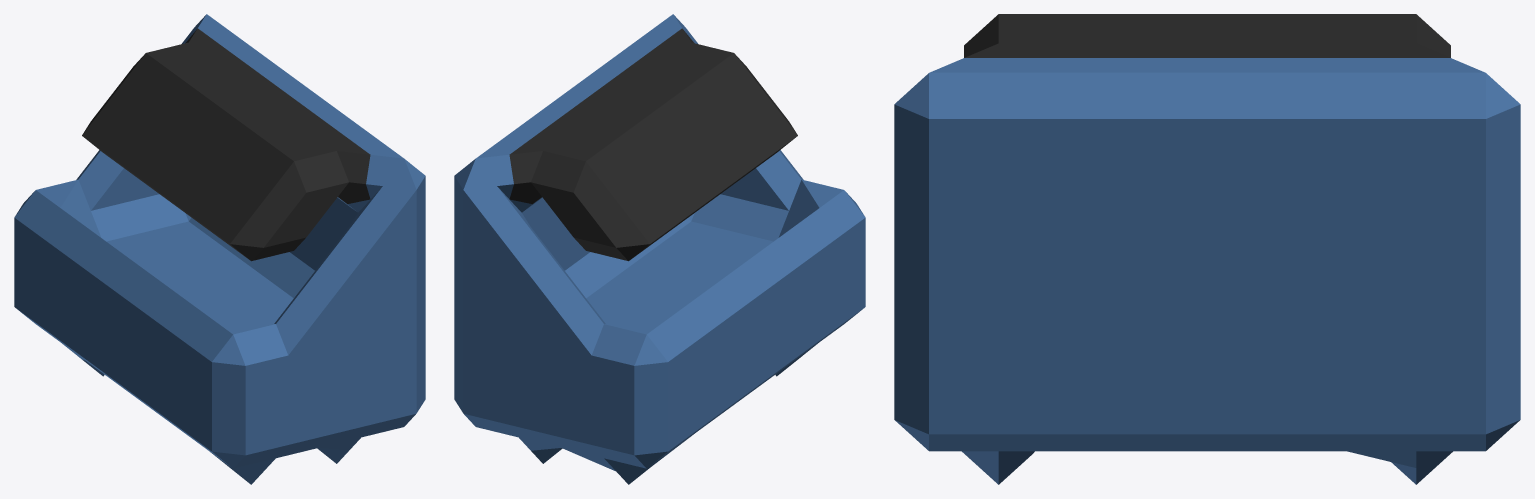
File: rc_dumpster.fbx
The picture shows the model from 3 angles, left to right: view 1: azimuth 30°, elevation 25°; view 2: azimuth 150°, elevation 25°; view 3: azimuth 270°, elevation 25°; orthographic projection. The views are drawn at different scales.
Parts seen in each view (by area): view 1: rc_dumpster; view 2: rc_dumpster; view 3: rc_dumpster.
Boxes of the visible parts, x1,y1,x2,y2 form: rc_dumpster: (14,14,425,484); rc_dumpster: (454,14,865,484); rc_dumpster: (894,14,1520,484).
Bounding box in the file's own units: 500 × 700 × 900.
